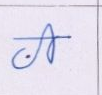i_matra: (43, 24, 56, 64)
